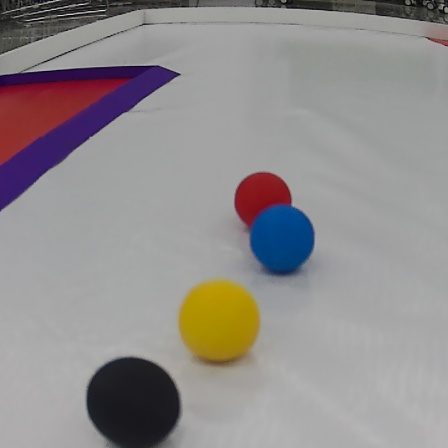black: (85, 351, 183, 447)
blue: (249, 202, 316, 278)
red: (229, 172, 298, 234)
red_aim: (1, 63, 188, 222)
yellow: (180, 275, 259, 365)
